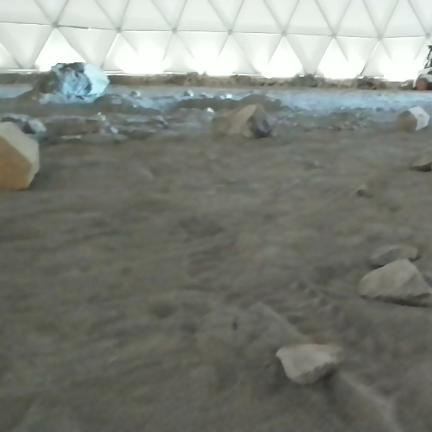Rock: (359, 260, 431, 306), (39, 63, 109, 102), (0, 122, 39, 190), (276, 344, 342, 384), (213, 104, 273, 138), (369, 244, 419, 268), (397, 107, 429, 131), (0, 114, 28, 128), (411, 153, 431, 172), (21, 119, 46, 134), (414, 77, 431, 91), (356, 185, 372, 197), (152, 116, 167, 128), (184, 90, 193, 97), (131, 91, 140, 97), (200, 93, 209, 97), (224, 94, 232, 98)
